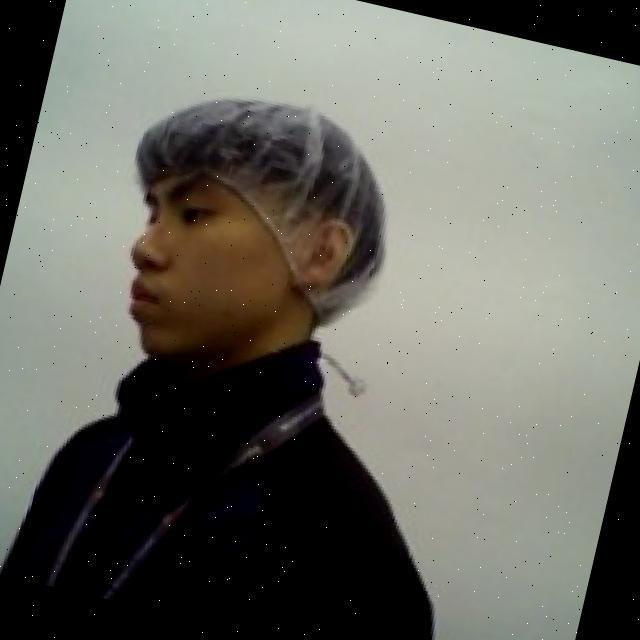gloves: (104, 63, 413, 334)
no_hairnet: (95, 172, 372, 410)
